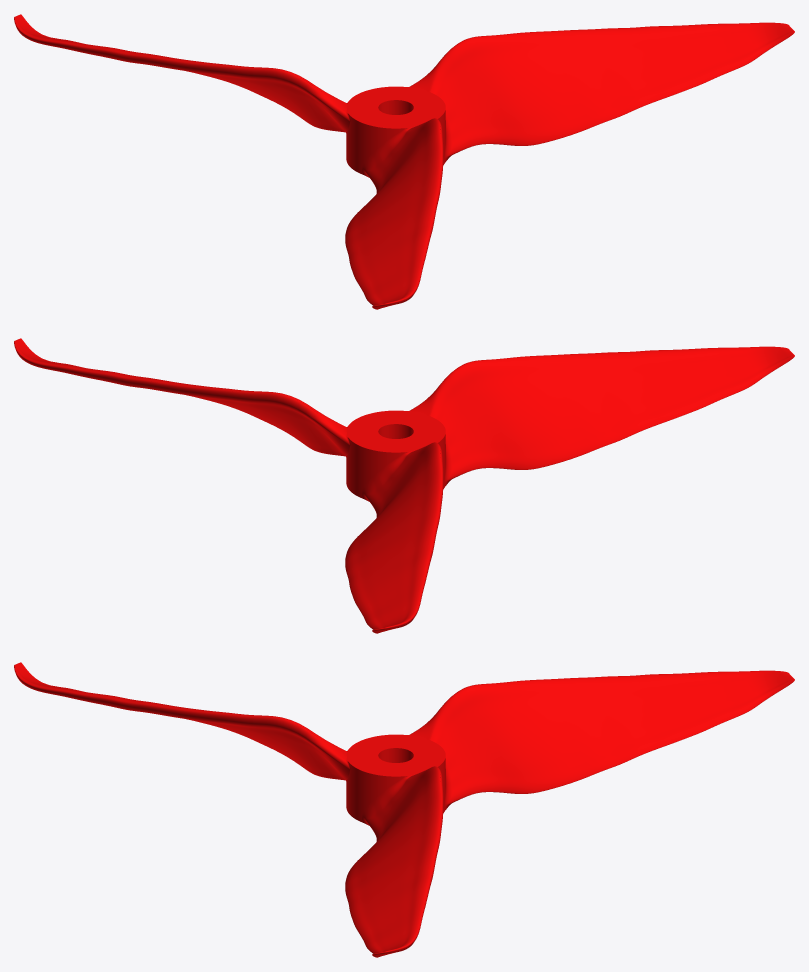
File: Falcon_PropellerCCW.dae
3 renders of one model, top to bottom at view 1: azimuth 30°, elevation 25°; view 2: azimuth 150°, elevation 25°; view 3: azimuth 270°, elevation 25°, orthographic.
Visible parts, largest first — view 1: ID2; view 2: ID2; view 3: ID2.
Part boxes in pixels (x1,y1,x2,y2): ID2: (14,14,794,309); ID2: (14,338,794,633); ID2: (14,662,794,957).
Bounding box in the file's own units: 0.0973 × 0.1099 × 0.0129.
